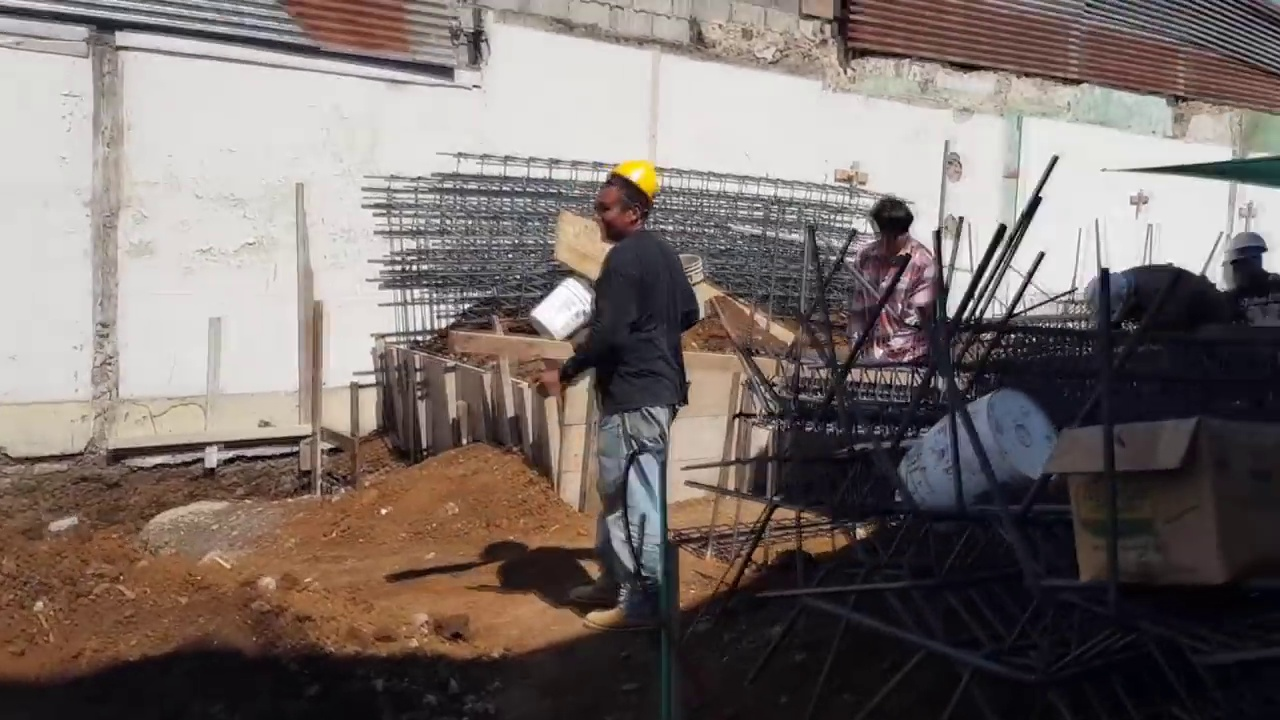helmet: (600, 156, 659, 209), (1082, 264, 1128, 329), (1220, 230, 1271, 257)
helmet-off: (864, 193, 915, 259)
helmet-on: (586, 148, 667, 254), (1218, 230, 1274, 297), (1081, 263, 1137, 329)
person: (548, 157, 695, 638), (842, 196, 940, 377), (1082, 260, 1224, 334), (1217, 229, 1278, 329)
